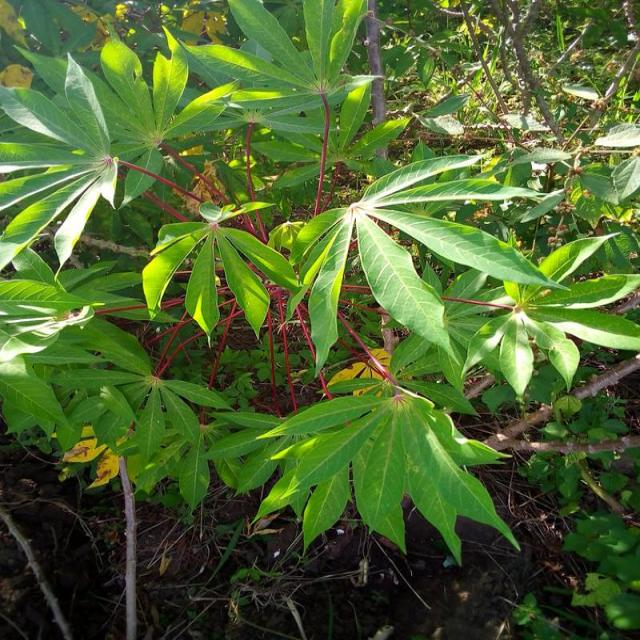cassava leaf: (2, 5, 638, 568), (250, 347, 520, 566)
